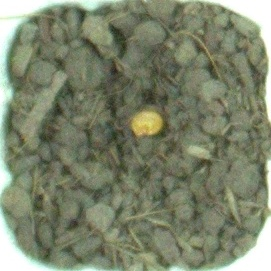pepper seed: (49, 41, 213, 180)
